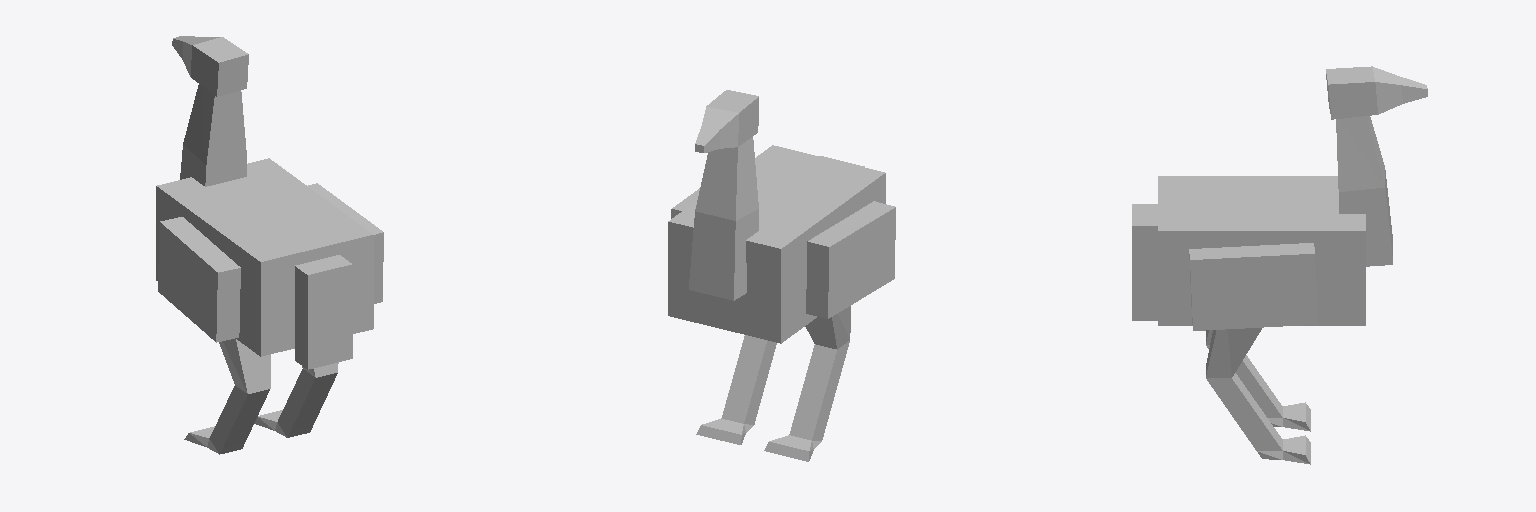
The model's file is Ostrich_000007.obj.
The picture shows the model from 3 angles: view 1: azimuth 30°, elevation 25°; view 2: azimuth 150°, elevation 25°; view 3: azimuth 270°, elevation 25°; orthographic projection.
Visible parts, largest first — view 1: Cube_Cube.001; view 2: Cube_Cube.001; view 3: Cube_Cube.001.
Part boxes in pixels (left/top/right/bottom): Cube_Cube.001: left=156, top=36, right=383, bottom=454; Cube_Cube.001: left=668, top=90, right=895, bottom=461; Cube_Cube.001: left=1132, top=66, right=1427, bottom=464.
Bounding box in the file's own units: 0.7362 × 1.53 × 1.14.